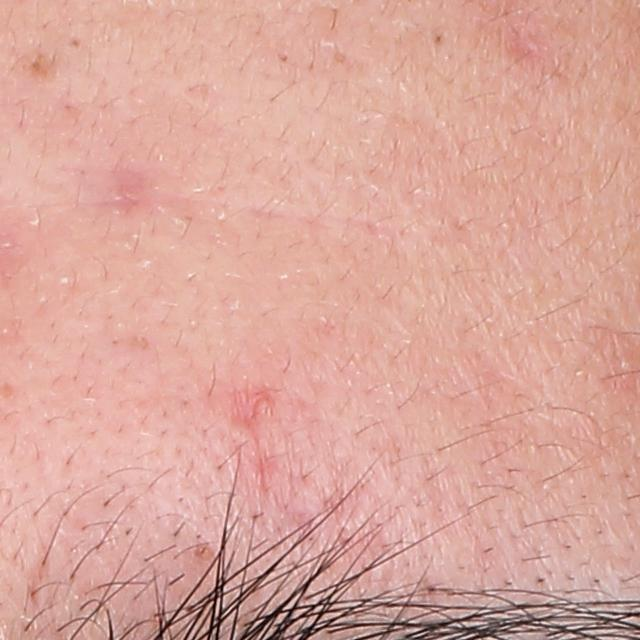atrophic_scar: (212, 382, 295, 438)
